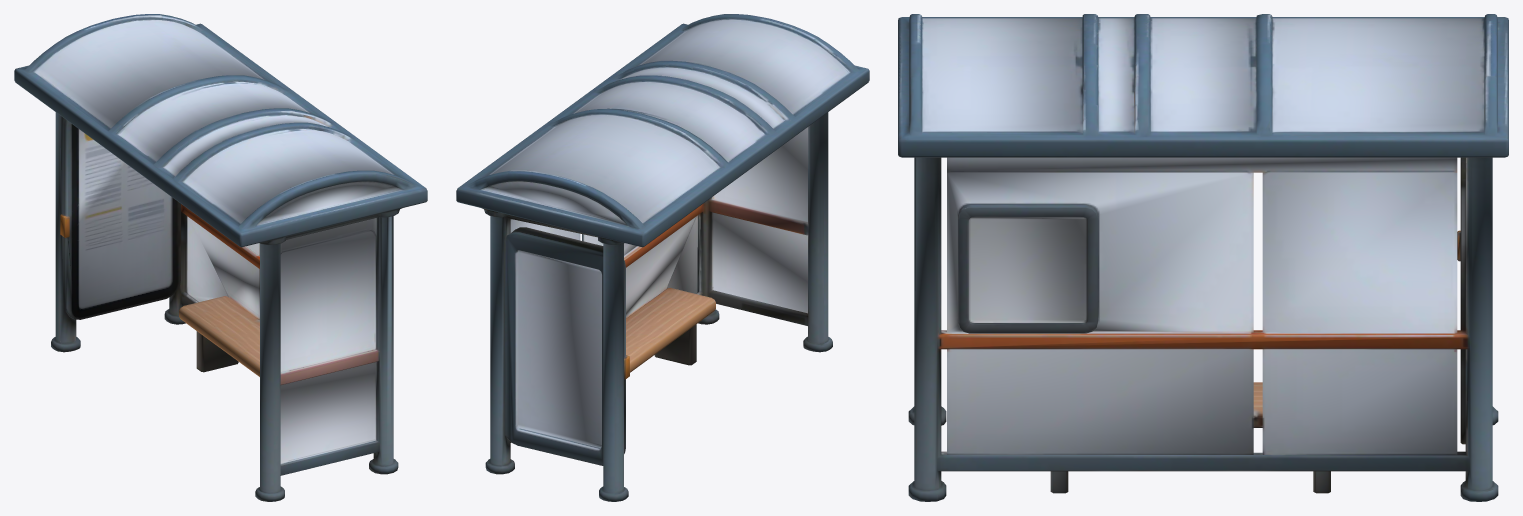
File: Urban__bus_stop_realistic_style_8ac1d16e_v4.cluster.glb
The picture shows the model from 3 angles, left to right: view 1: azimuth 30°, elevation 25°; view 2: azimuth 150°, elevation 25°; view 3: azimuth 270°, elevation 25°; orthographic projection. The views are drawn at different scales.
Parts seen in each view (by area): view 1: texture_pbr_20250901; view 2: texture_pbr_20250901; view 3: texture_pbr_20250901.
Part boxes in pixels (x1,y1,x2,y2): texture_pbr_20250901: [14, 14, 427, 501]; texture_pbr_20250901: [456, 14, 869, 501]; texture_pbr_20250901: [898, 14, 1508, 501].
Size of the model in its own units: 0.9063 by 1.43 by 1.9.
Materials: 1 (1 with a texture image).
